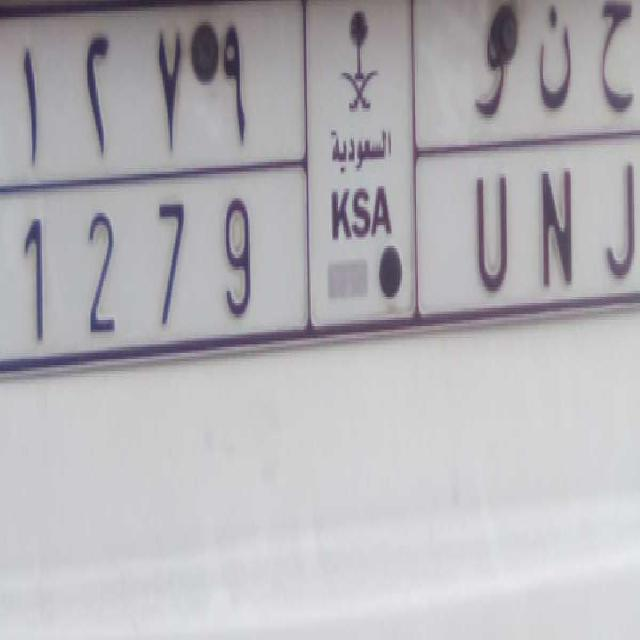license_plate: (9, 142, 640, 361)
